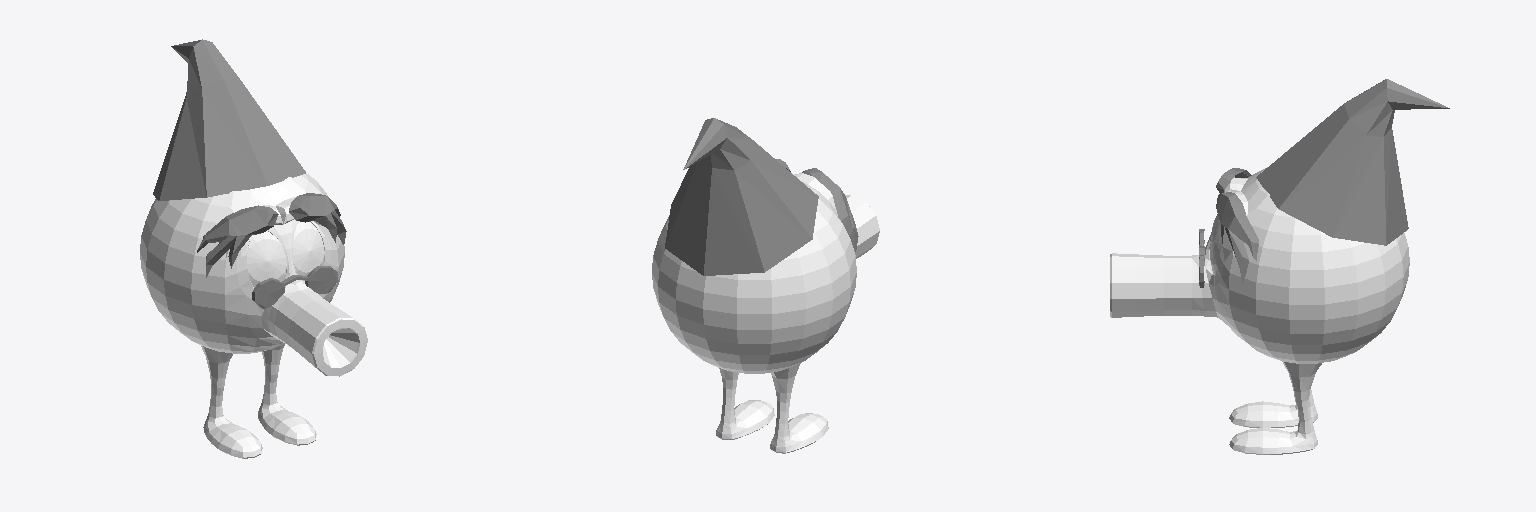
Rendered from qzard.obj.
The picture shows the model from 3 angles: view 1: azimuth 30°, elevation 25°; view 2: azimuth 150°, elevation 25°; view 3: azimuth 270°, elevation 25°; orthographic projection.
Parts seen in each view (by area): view 1: Qzard, Qzard_Material; view 2: Qzard, Qzard_Material; view 3: Qzard, Qzard_Material.
Boxes of the visible parts, x1=… form: Qzard: x1=140, y1=173, x2=367, y2=458; Qzard_Material: x1=153, y1=39, x2=346, y2=308; Qzard: x1=652, y1=173, x2=879, y2=453; Qzard_Material: x1=665, y1=118, x2=858, y2=275; Qzard: x1=1110, y1=167, x2=1409, y2=454; Qzard_Material: x1=1199, y1=79, x2=1449, y2=287.
Size of the model in its own units: 34.85 by 67.42 by 58.65.